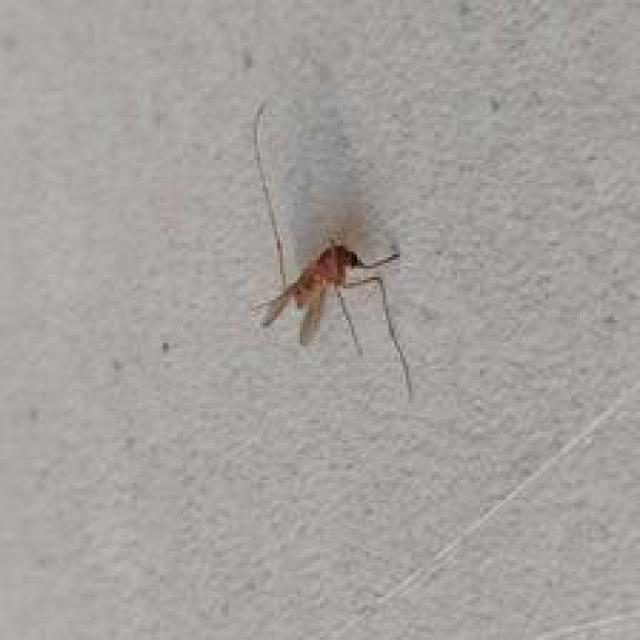Culex: (249, 98, 414, 402)
